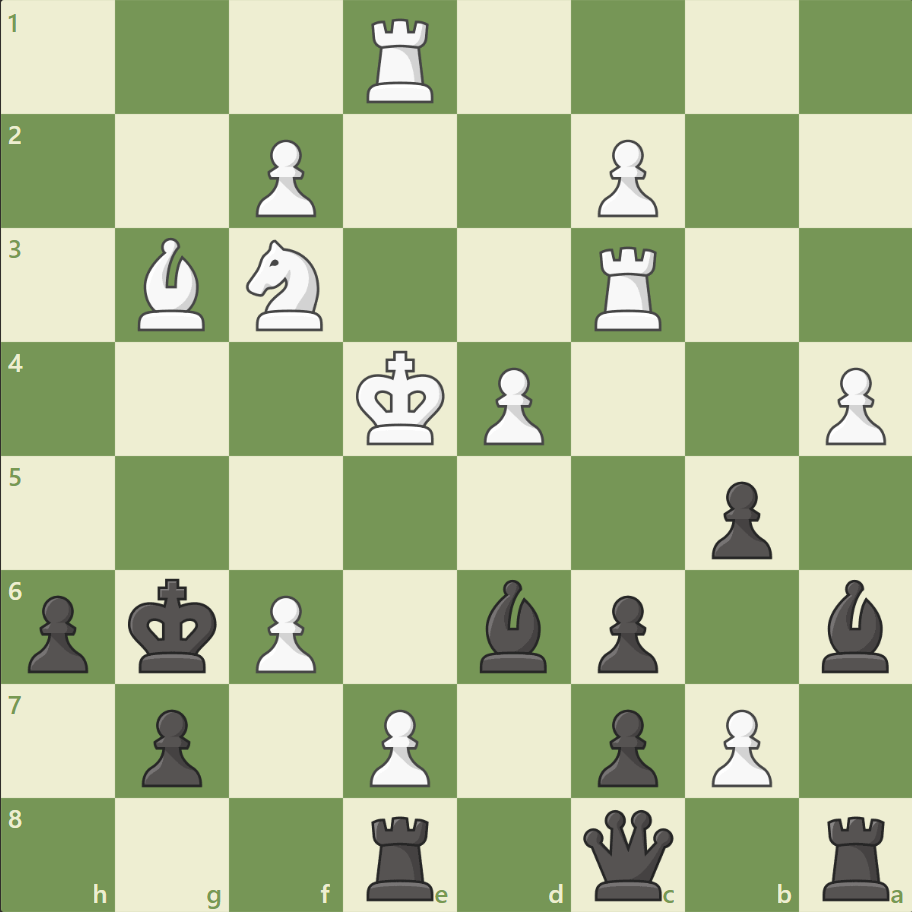B: (131, 233, 215, 336)
K: (351, 344, 451, 452)
N: (238, 234, 335, 337)
P: (701, 700, 776, 791), (247, 586, 322, 677), (474, 359, 549, 450), (247, 132, 322, 223), (361, 700, 435, 791), (815, 359, 889, 450), (588, 132, 662, 223)
R: (587, 239, 670, 336), (360, 12, 442, 109)
b: (812, 574, 896, 676), (471, 574, 555, 676)
k: (124, 571, 224, 679)
p: (133, 700, 208, 791), (20, 586, 95, 677), (701, 473, 776, 564), (588, 700, 662, 791), (588, 586, 662, 677)
q: (578, 804, 677, 903)
r: (814, 806, 897, 904), (360, 806, 442, 904)
